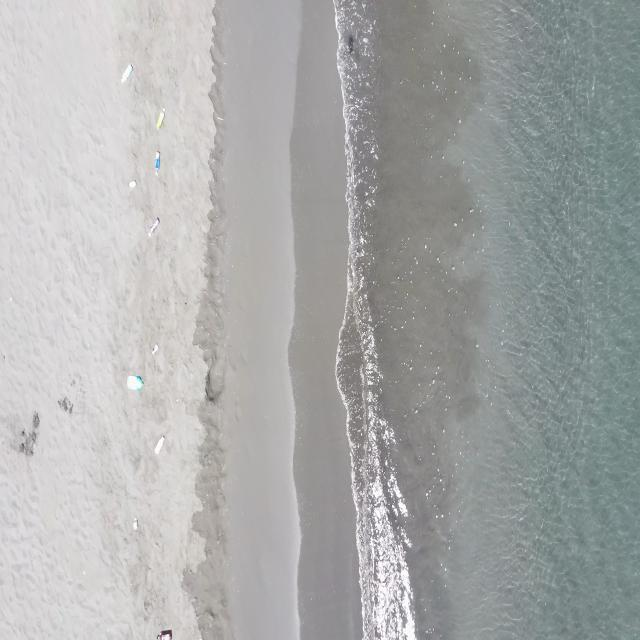Garbage: (127, 375, 143, 390), (148, 216, 159, 236), (120, 64, 131, 81), (156, 628, 171, 639), (154, 435, 163, 453), (156, 108, 163, 128), (154, 151, 159, 173), (151, 344, 158, 353), (131, 517, 136, 529), (128, 180, 136, 187)
